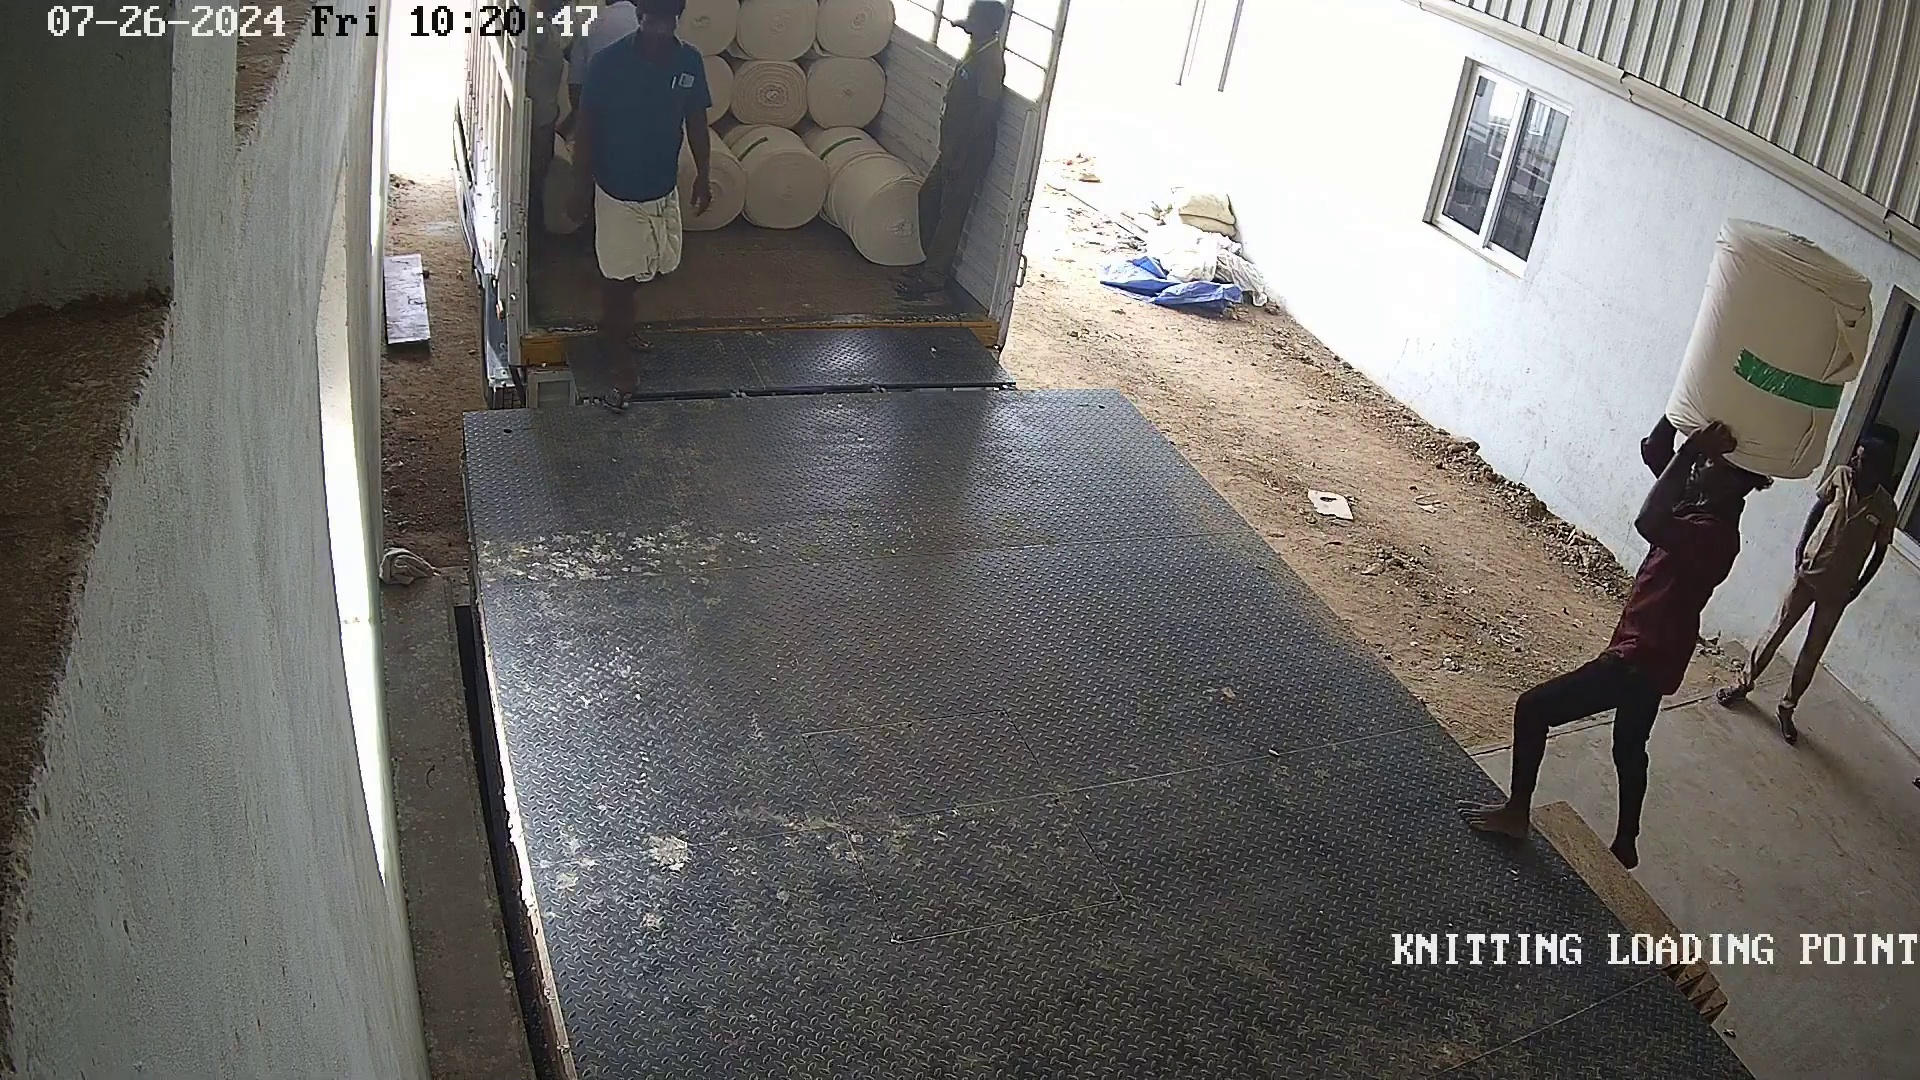bag: (1472, 140, 1797, 444)
